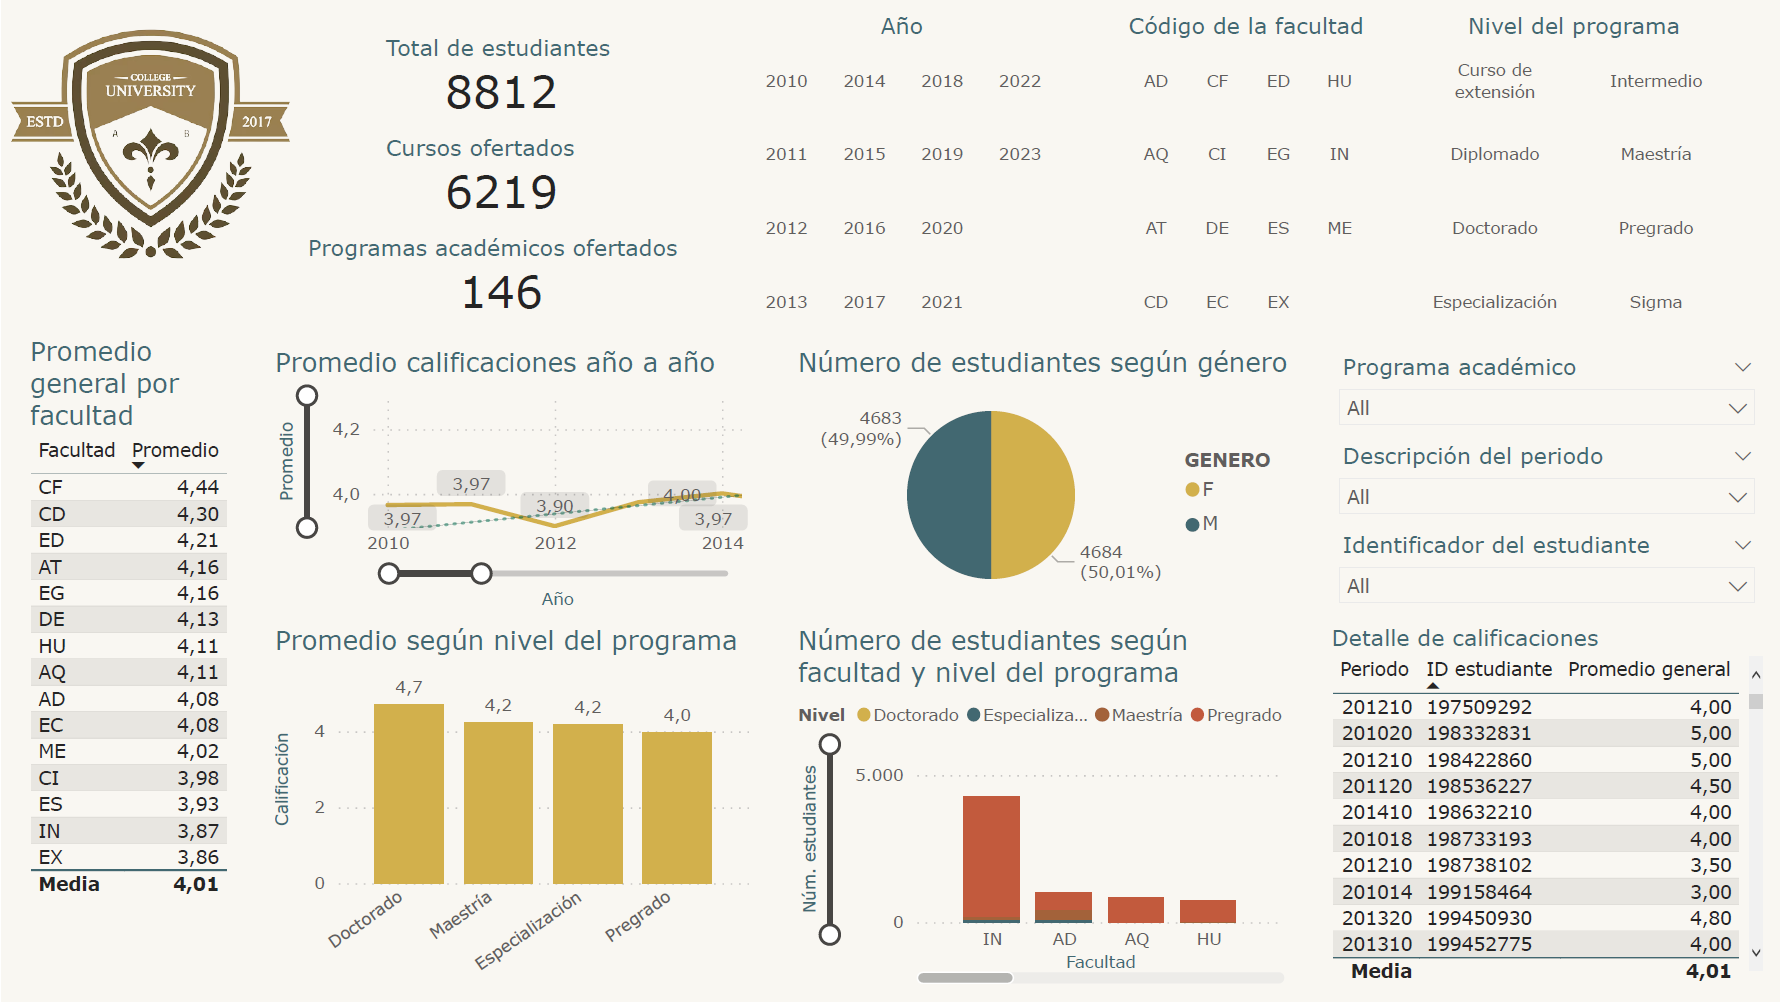

Layout of this report page (visuals, bound fields, positions):
{"tool":"powerbi","page":{"name":"Seguimiento calificaciones","canvas":[1280,720],"ordinal":0},"visuals":[{"type":"slicer","title":"Código de la facultad","fields":{"Values":["NOTAS_ESTUDIANTES.CODIGO_FACULTAD_PROGRAMA_1"]},"box":[784,8,224,240],"z":0,"group":"g2"},{"type":"slicer","fields":{"Values":["PERIODOS_ACADEMICOS.DESCRIPCION_PERIODO"]},"box":[952,312,320,64],"z":0,"group":"g1"},{"type":"tableEx","title":"Detalle de calificaciones","fields":{"Values":["NOTAS_ESTUDIANTES.PERIODO","NOTAS_ESTUDIANTES.ID_ESTUDIANTE","Avg(NOTAS_ESTUDIANTES.CALIFICACION_FINAL_VALOR)"]},"box":[952,448,320,264],"z":0},{"type":"slicer","title":"Nivel del programa","fields":{"Values":["NIVELES.Nivel"]},"box":[992,8,280,240],"z":1000,"group":"g2"},{"type":"group","id":"g1","title":"Group 2","box":[952,248,320,192],"z":1000},{"type":"slicer","fields":{"Values":["NOTAS_ESTUDIANTES.ID_ESTUDIANTE"]},"box":[952,376,320,64],"z":1000,"group":"g1"},{"type":"lineChart","title":"Promedio calificaciones año a año","fields":{"Y":["Avg(NOTAS_ESTUDIANTES.CALIFICACION_FINAL_VALOR)"],"Category":["PERIODOS_ACADEMICOS.Año"]},"box":[192,248,352,192],"z":2000},{"type":"slicer","fields":{"Values":["PROGRAMAS.PROGRAMA"]},"box":[952,248,320,64],"z":2000,"group":"g1"},{"type":"card","title":"Total de estudiantes","fields":{"Values":["Count(NOTAS_ESTUDIANTES.ID_ESTUDIANTE)"]},"box":[272,24,176,64],"z":3000,"group":"g3"},{"type":"tableEx","title":"Promedio general por facultad","fields":{"Values":["NOTAS_ESTUDIANTES.CODIGO_FACULTAD_PROGRAMA_1","Avg(NOTAS_ESTUDIANTES.CALIFICACION_FINAL_VALOR)"]},"box":[16,240,152,464],"z":3000},{"type":"slicer","title":"Año","fields":{"Values":["PERIODOS_ACADEMICOS.Año"]},"box":[512,8,272,240],"z":4000,"group":"g2"},{"type":"clusteredColumnChart","title":"Promedio según nivel del programa","fields":{"Y":["Avg(NOTAS_ESTUDIANTES.CALIFICACION_FINAL_VALOR)"],"Category":["NIVELES.Nivel"]},"box":[192,448,352,264],"z":4000},{"type":"card","title":"Programas académicos ofertados","fields":{"Values":["Count(NOTAS_ESTUDIANTES.CODIGO_PROGRAMA_1)"]},"box":[216,168,288,64],"z":5000,"group":"g3"},{"type":"columnChart","title":"Número de estudiantes según facultad y nivel del programa","fields":{"Y":["CountNonNull(NOTAS_ESTUDIANTES.ID_ESTUDIANTE)"],"Category":["NOTAS_ESTUDIANTES.CODIGO_FACULTAD_PROGRAMA_1"],"Series":["NIVELES.Nivel"]},"box":[568,448,360,264],"z":5000},{"type":"image","box":[0,8,216,192],"z":6000},{"type":"group","id":"g2","title":"Group 1","box":[512,8,760,240],"z":7000},{"type":"card","title":"Cursos ofertados","fields":{"Values":["Count(NOTAS_ESTUDIANTES.ID_CURSO)"]},"box":[272,96,176,64],"z":7000,"group":"g3"},{"type":"pieChart","title":"Número de estudiantes según género","fields":{"Y":["Count(NOTAS_ESTUDIANTES.ID_ESTUDIANTE)"],"Category":["NOTAS_ESTUDIANTES.GENERO"]},"box":[568,248,368,192],"z":8000},{"type":"group","id":"g3","title":"Group 3","box":[216,24,288,208],"z":9000}]}

Visuals, with their boxes in screenshot pixels (x1, y1, x2, y2), scaled from the page's 1280x720 canvas onto the 1780x1002 screenshot:
"Código de la facultad" slicer: bbox=[1090, 11, 1402, 345]
slicer - PERIODOS_ACADEMICOS.DESCRIPCION_PERIODO: bbox=[1324, 434, 1769, 523]
"Detalle de calificaciones" tableEx: bbox=[1324, 623, 1769, 991]
"Nivel del programa" slicer: bbox=[1380, 11, 1769, 345]
"Group 2" group: bbox=[1324, 345, 1769, 612]
slicer - NOTAS_ESTUDIANTES.ID_ESTUDIANTE: bbox=[1324, 523, 1769, 612]
"Promedio calificaciones año a año" lineChart: bbox=[267, 345, 756, 612]
slicer - PROGRAMAS.PROGRAMA: bbox=[1324, 345, 1769, 434]
"Total de estudiantes" card: bbox=[378, 33, 623, 122]
"Promedio general por facultad" tableEx: bbox=[22, 334, 234, 980]
"Año" slicer: bbox=[712, 11, 1090, 345]
"Promedio según nivel del programa" clusteredColumnChart: bbox=[267, 623, 756, 991]
"Programas académicos ofertados" card: bbox=[300, 234, 701, 323]
"Número de estudiantes según facultad y nivel del programa" columnChart: bbox=[790, 623, 1290, 991]
image: bbox=[0, 11, 300, 278]
"Group 1" group: bbox=[712, 11, 1769, 345]
"Cursos ofertados" card: bbox=[378, 134, 623, 223]
"Número de estudiantes según género" pieChart: bbox=[790, 345, 1302, 612]
"Group 3" group: bbox=[300, 33, 701, 323]
